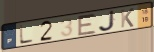2: (39, 20, 54, 43)
3: (59, 17, 75, 38)
E: (76, 13, 97, 37)
J: (98, 9, 117, 33)
K: (120, 7, 135, 29)
L: (19, 24, 35, 46)
